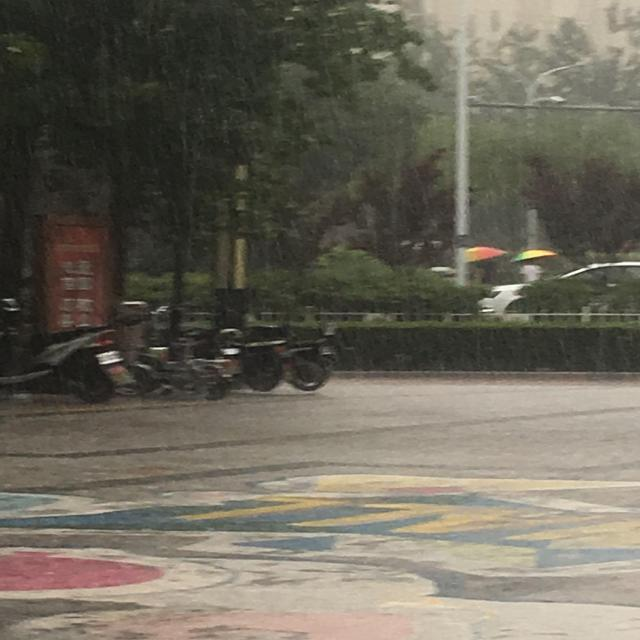car: (477, 260, 638, 314)
